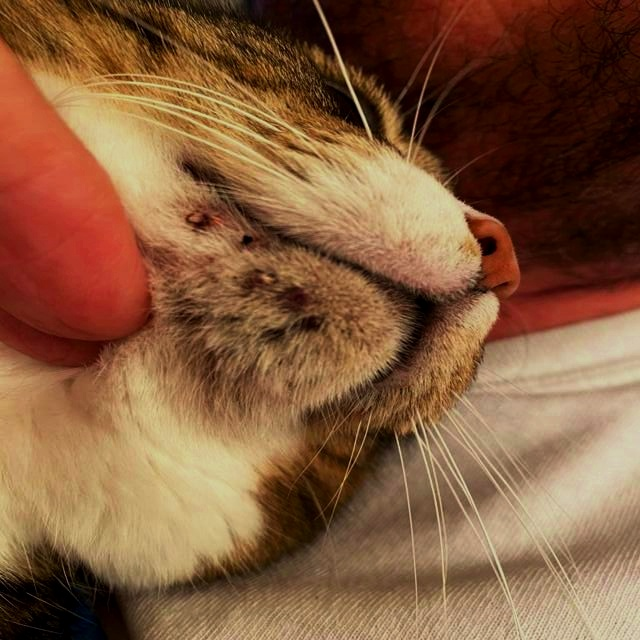acne: (161, 206, 353, 361)
